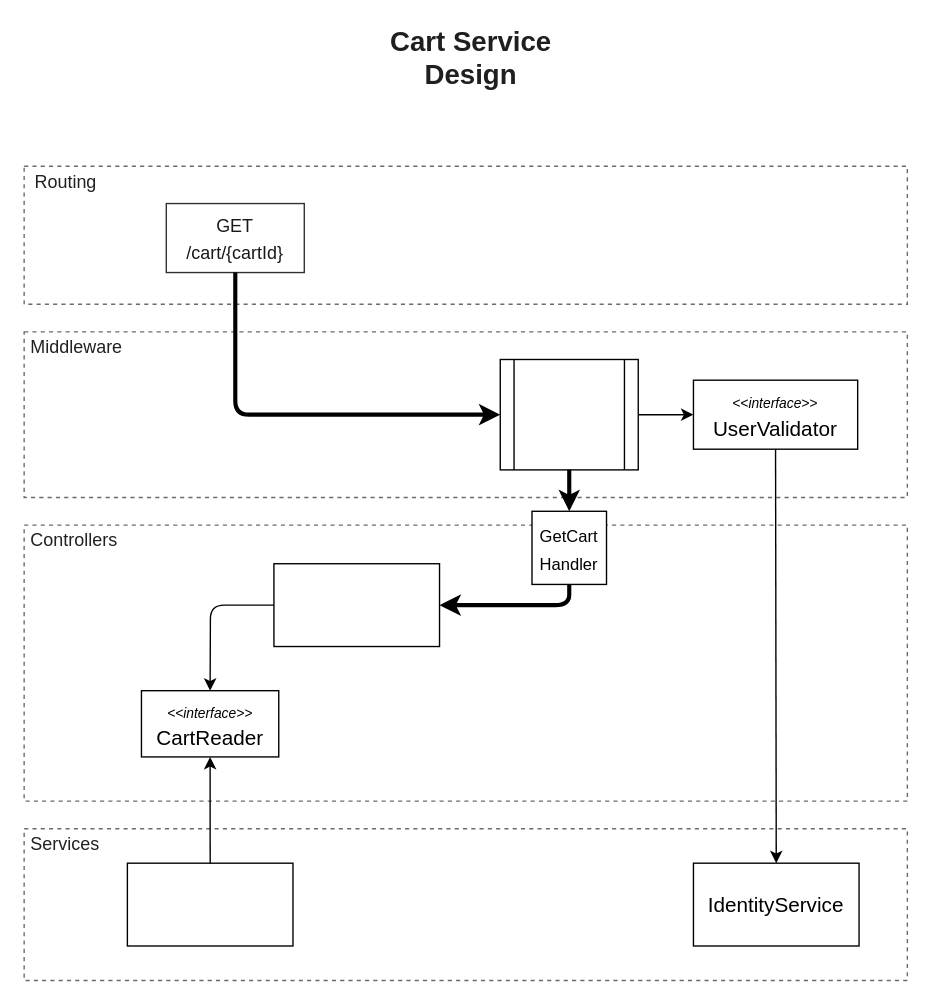
Image size: 932x1005. Some labels were removed from this diagram. The centre of each missing label's shape, as x and y in pixels:
CartController: [356,604]
CartService: [209,904]
Security Filter: [568,414]
